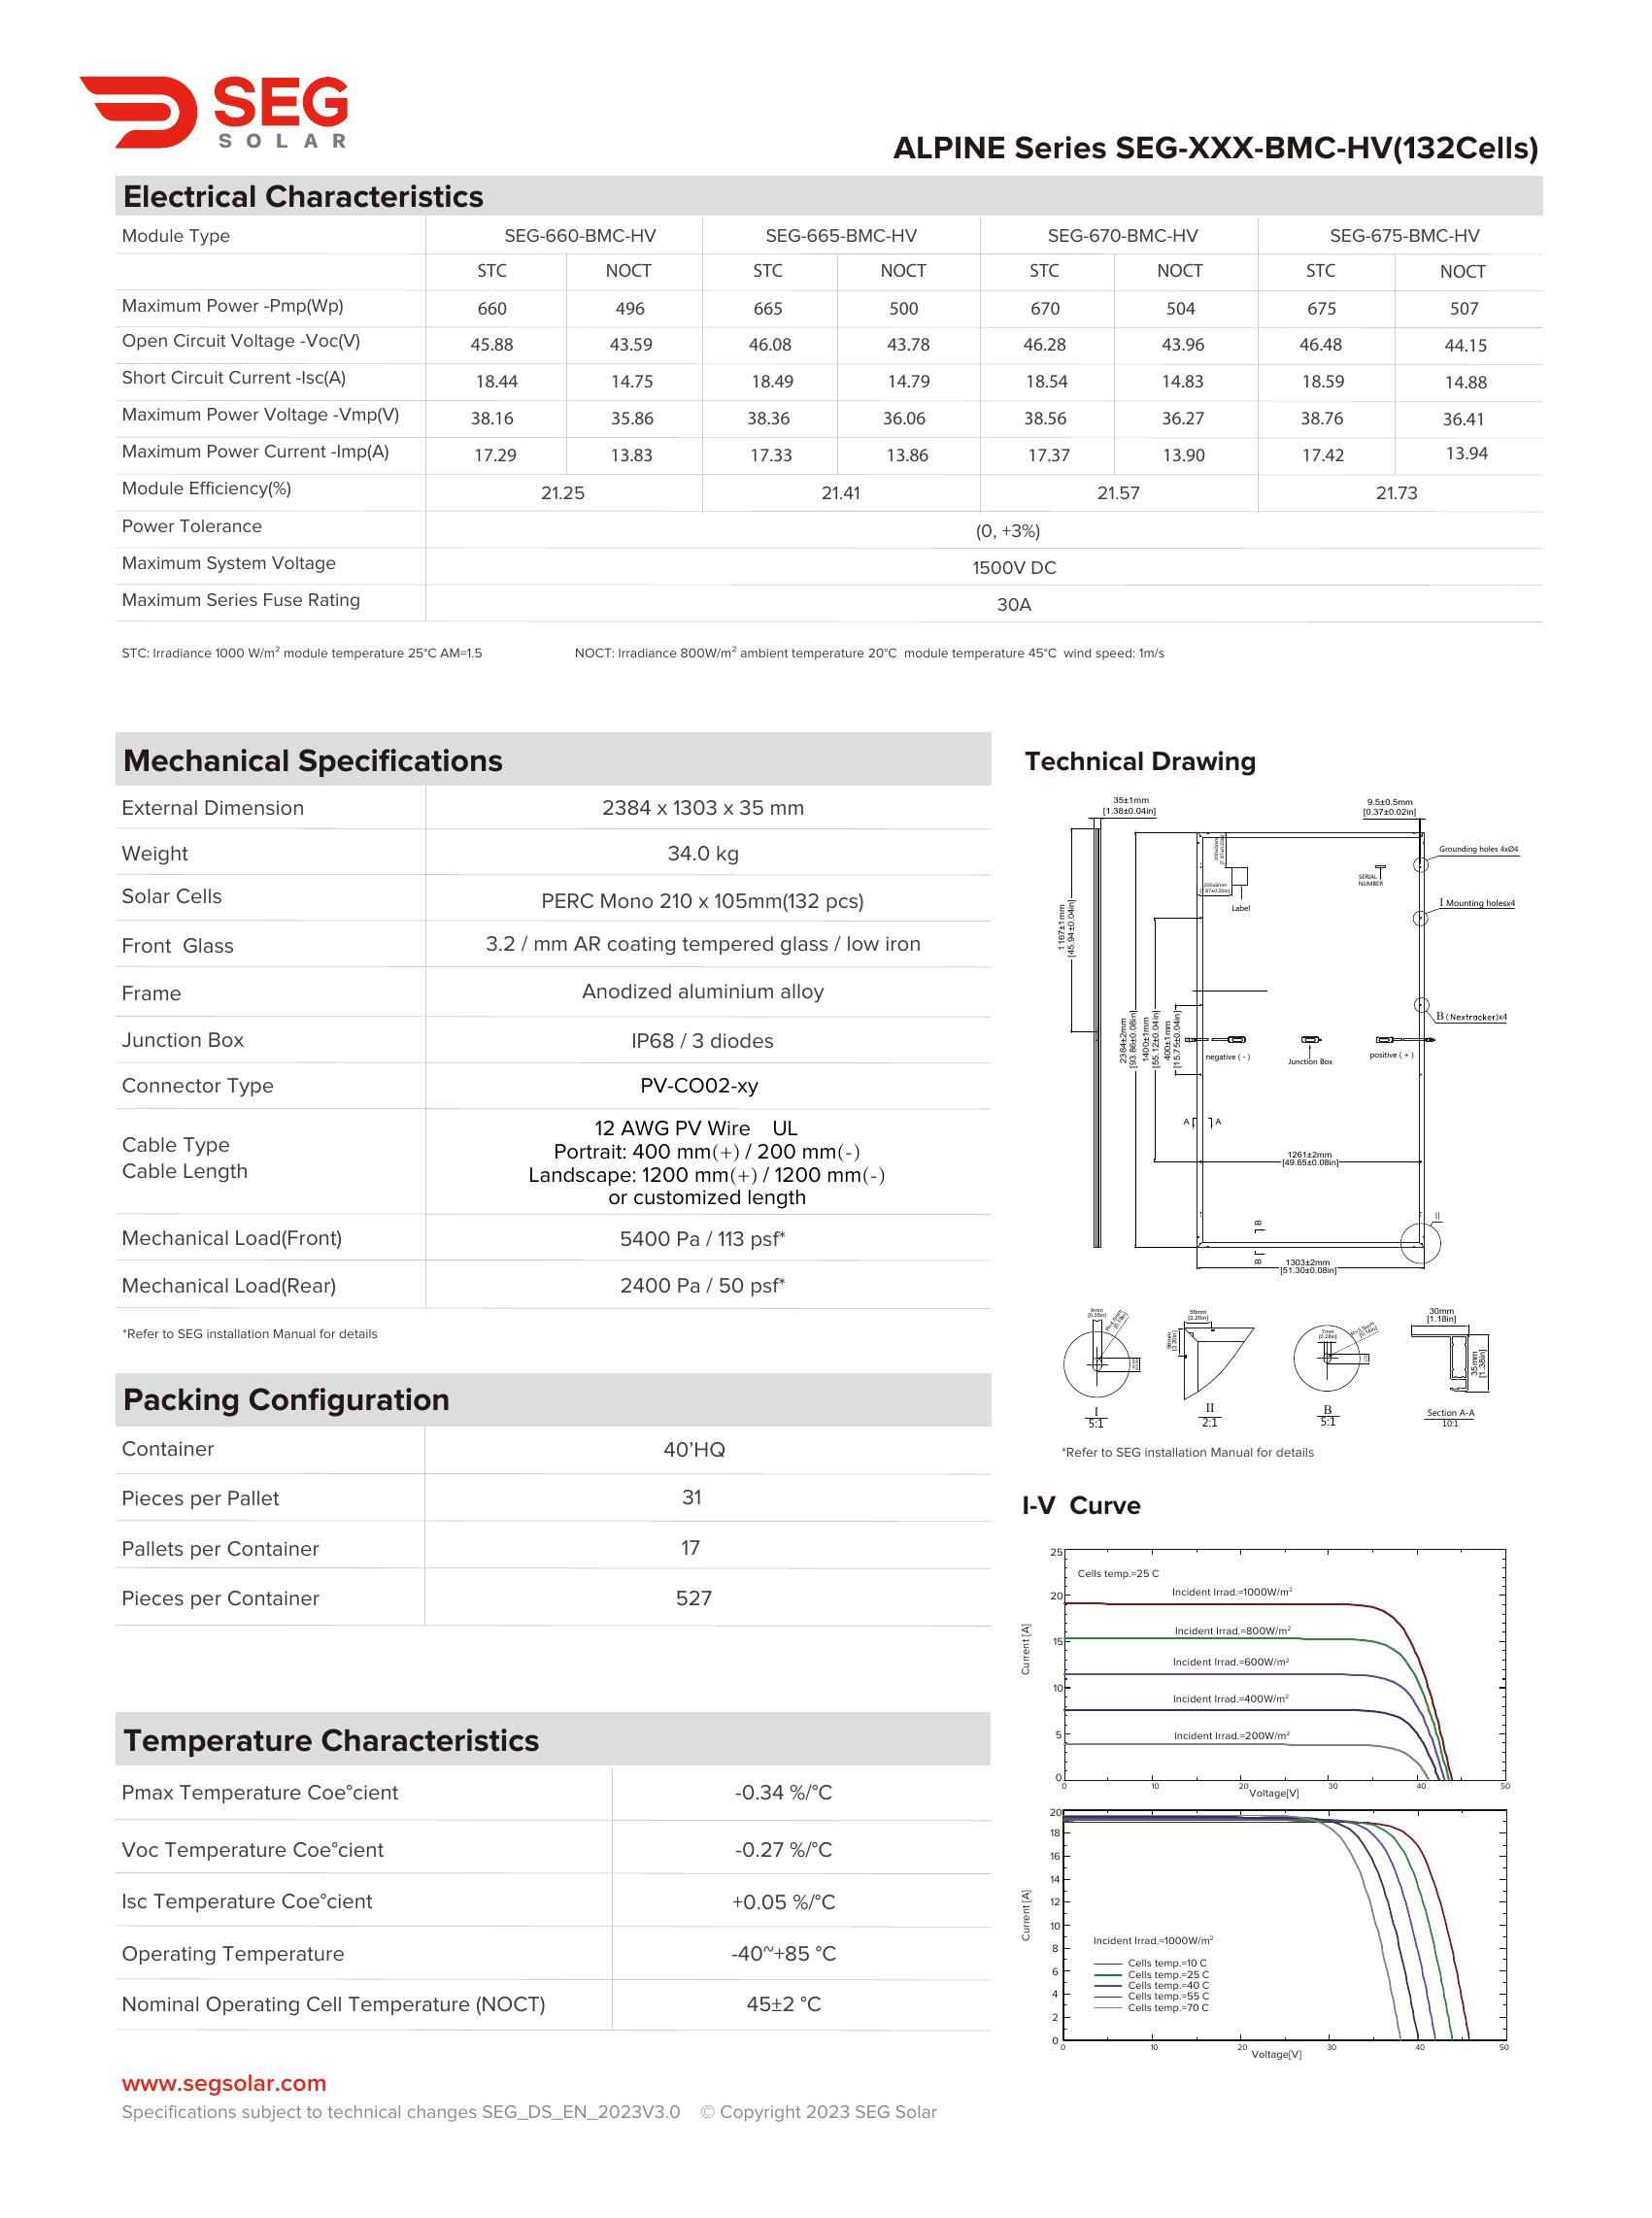table: (108, 220, 1544, 632), (111, 788, 1001, 1322), (109, 1775, 996, 2041), (108, 1434, 986, 1635)
